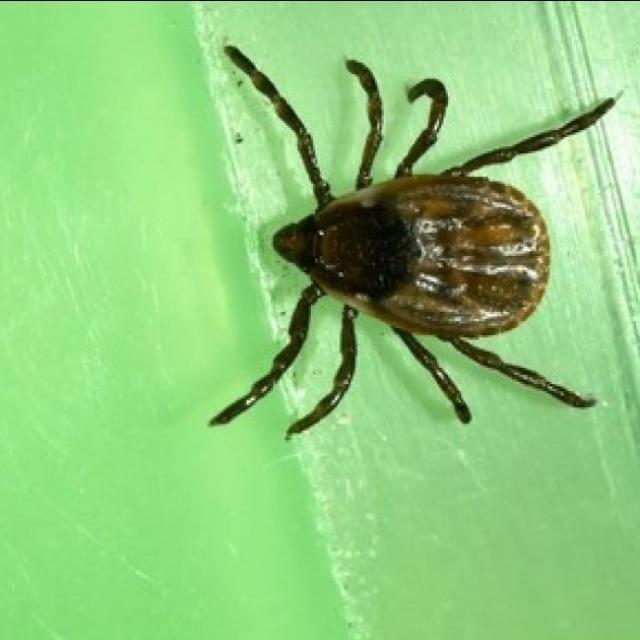Rhipicephalus Sanguineus-F: (207, 43, 616, 439)
